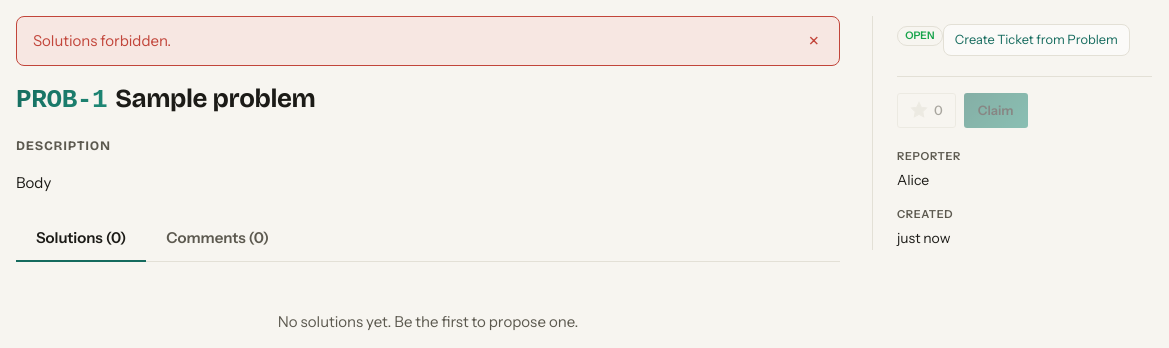
Test case: ProblemDetail — v2.15-WP03 action-error surface › dismisses the action-error banner on click
This screenshot has width=1169, height=348.
Expected: the message with test id "problem-detail-action-error" shows "Solutions forbidden.", x1=33 y1=31 x2=171 y2=50
Click the button named "Dismiss error": (814, 41) x1=804 y1=31 x2=823 y2=51
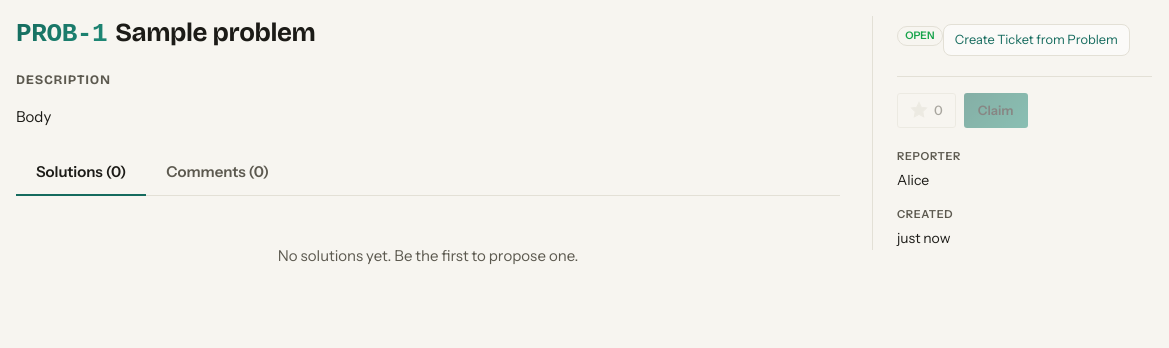
Now the message with test id "problem-detail-action-error" is gone
